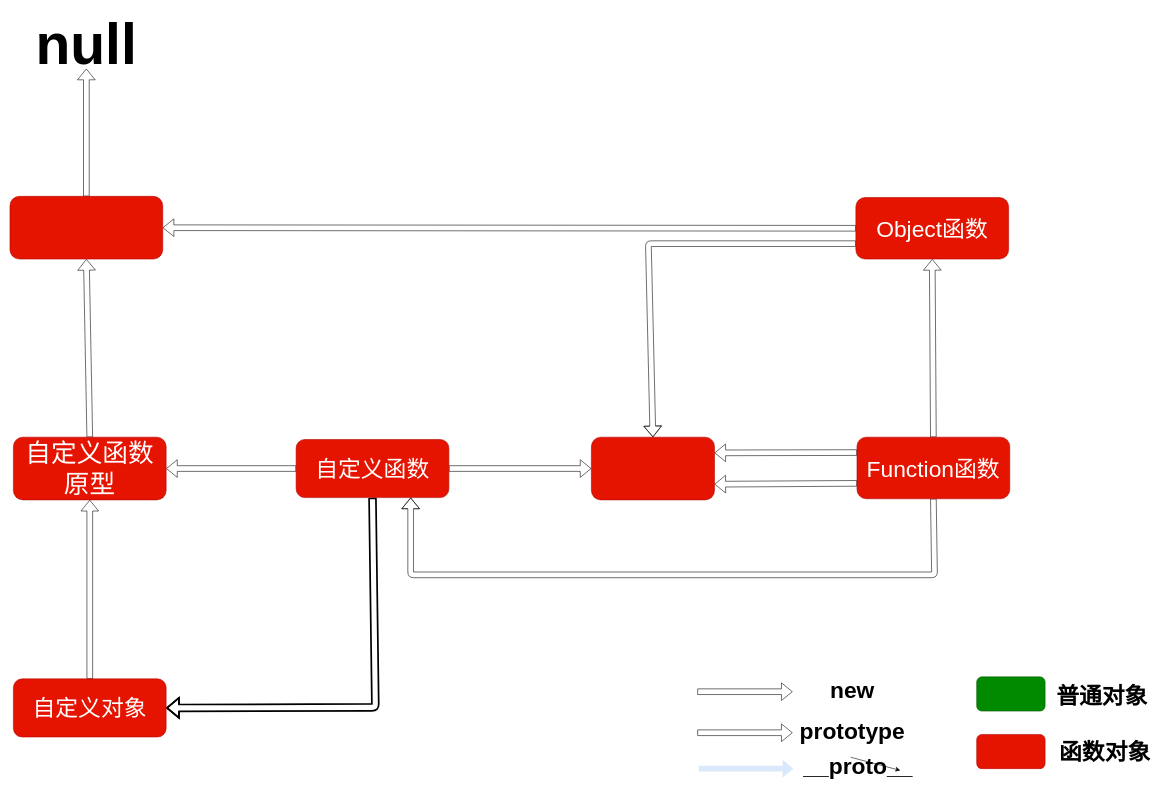
This 1165x789 diagram has some shape labels left out. Here are the shapes that lost their labels. From the top down, the centre of each, then its label:
At point (86, 227): "Object原型".
At point (652, 468): "Function原型".
